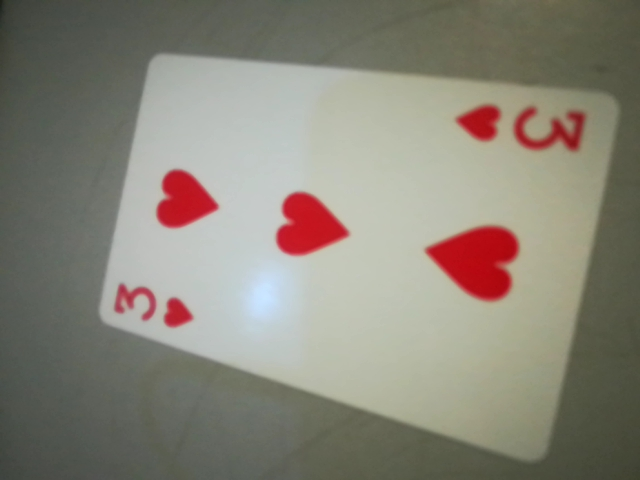hx 3: (453, 93, 603, 160)
